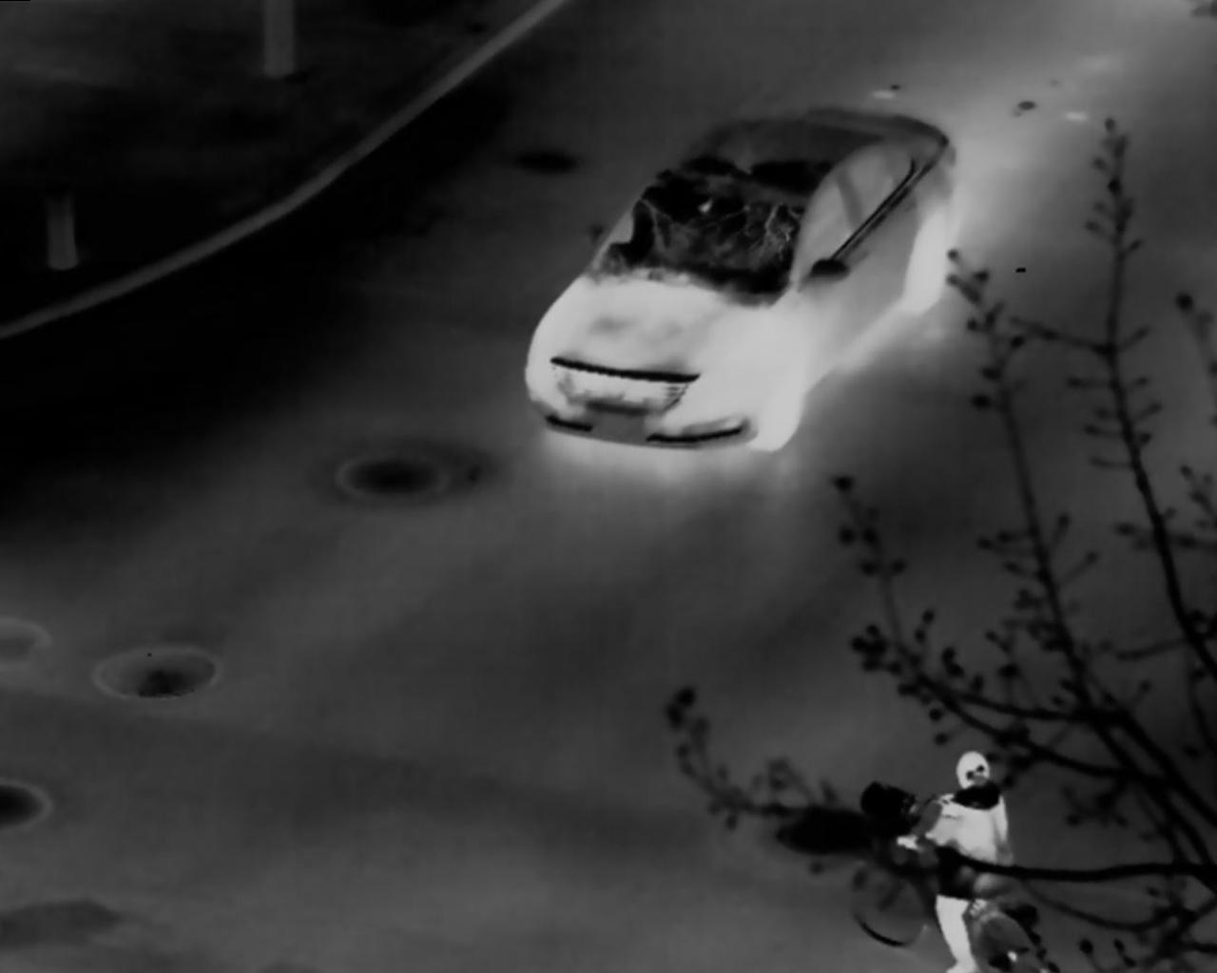person: (894, 750, 1013, 973)
